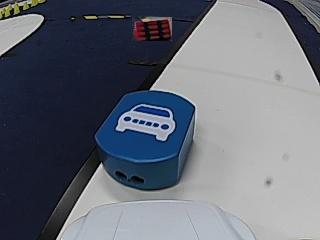safety: (115, 104, 177, 140)
